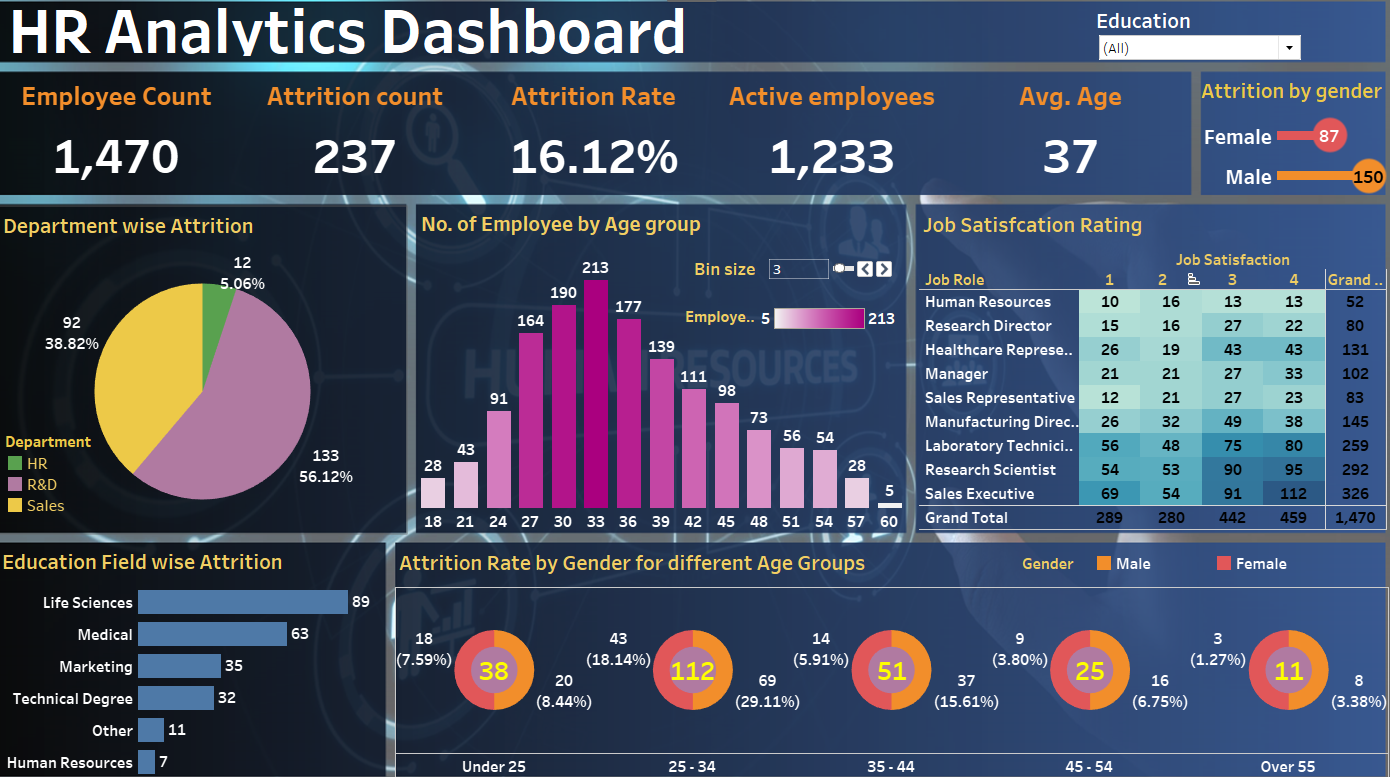

The dashboard page shown, as its layout file describes it:
{"tool":"tableau","page":{"name":"HR Analytics","canvas":[1580,811],"ordinal":0},"visuals":[{"type":"image","param":"Image/HR background.png","box":[8,8,1564,795]},{"type":"text","box":[103,17,879,56]},{"type":"filter","title":"Department wise Attrition","param":"[federated.16e9s5p1lfpqya1f1xzee1ssfxj5].[none:Education:nk]","box":[1194,23,208,54]},{"type":"worksheet","title":"KPI","mark":"Automatic","box":[95,89,1193,123]},{"type":"worksheet","title":"Attrition by gender","mark":"Circle","rows":["Gender"],"cols":["Calculation_630503996696248320","Calculation_630503996696248320"],"box":[1295,89,194,124]},{"type":"worksheet","title":"No. of Employee by Age group","mark":"Automatic","rows":["Employee Count"],"cols":["Age (bin)"],"box":[515,222,489,328]},{"type":"worksheet","title":"Job Satisfcation Rating","mark":"Square","rows":["Job Role"],"cols":["Job Satisfaction"],"box":[1017,223,468,324]},{"type":"worksheet","title":"Department wise Attrition","mark":"Pie","box":[97,224,407,326]},{"type":"parameter","param":"[Parameters].[Parameter 1]","box":[792,273,201,25]},{"type":"legend","title":"No. of Employee by Age group","param":"[federated.16e9s5p1lfpqya1f1xzee1ssfxj5].[sum:Employee Count:qk]","box":[783,321,215,44]},{"type":"legend","title":"Department wise Attrition","param":"[federated.16e9s5p1lfpqya1f1xzee1ssfxj5].[none:Department:nk]","box":[103,448,140,91]},{"type":"worksheet","title":"Education Field wise Attrition","mark":"Automatic","rows":["Education Field"],"cols":["Calculation_630503996696248320"],"box":[96,560,388,235]},{"type":"worksheet","title":"Attrition Rate by Gender for different Age Groups","mark":"Pie","rows":["Calculation_207447108051886081","Calculation_207447108051886081"],"cols":["CF_age band"],"box":[493,561,995,235]},{"type":"legend","title":"Attrition Rate by Gender for different Age Groups","param":"[federated.16e9s5p1lfpqya1f1xzee1ssfxj5].[none:Gender:nk]","box":[1120,570,345,35]}]}

Visuals, with their boxes on the page's 1580x811 design canvas (x1, y1, x2, y2). These are canvas units, not pixel positions in the 1390x777 screenshot, which may show the page scaled, cropped or inside an application window:
image: detection(8, 8, 1572, 803)
text: detection(103, 17, 982, 73)
"Department wise Attrition" filter: detection(1194, 23, 1402, 77)
"KPI" worksheet: detection(95, 89, 1288, 212)
"Attrition by gender" worksheet (Circle marks): detection(1295, 89, 1489, 213)
"No. of Employee by Age group" worksheet: detection(515, 222, 1004, 550)
"Job Satisfcation Rating" worksheet (Square marks): detection(1017, 223, 1485, 547)
"Department wise Attrition" worksheet (Pie marks): detection(97, 224, 504, 550)
parameter: detection(792, 273, 993, 298)
"No. of Employee by Age group" legend: detection(783, 321, 998, 365)
"Department wise Attrition" legend: detection(103, 448, 243, 539)
"Education Field wise Attrition" worksheet: detection(96, 560, 484, 795)
"Attrition Rate by Gender for different Age Groups" worksheet (Pie marks): detection(493, 561, 1488, 796)
"Attrition Rate by Gender for different Age Groups" legend: detection(1120, 570, 1465, 605)
